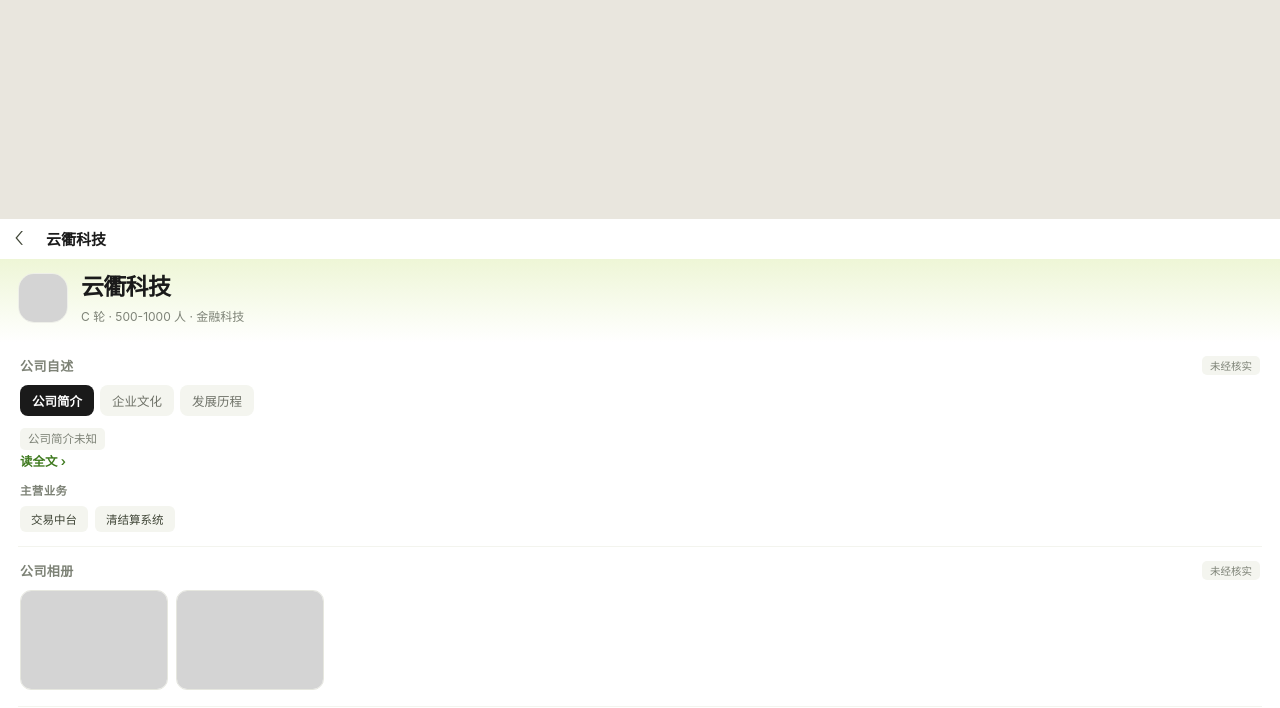
Test: 企业公开页展示 · 主屏与公司自述 › 三 Tab 只换自述正文，缺失的 Tab 显示对应未知
(page scrolled)
Expected: the text "公司简介未知" is shown, [20,428,105,450]
Step 1. Click the button "企业文化" → (137, 400), box [100,385,174,416]
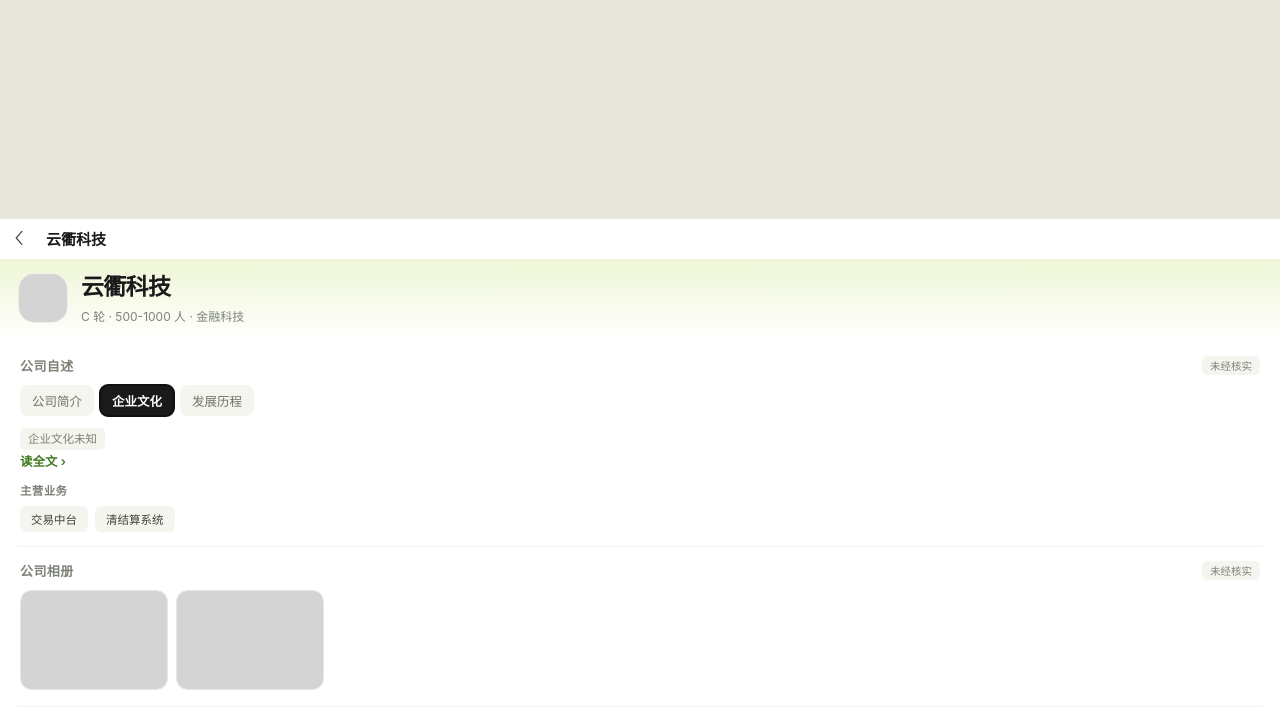
Result: the text "企业文化未知" is shown at [20,428,105,450]
Step 2. Click the button "发展历程" → (217, 400), box [180,385,254,416]
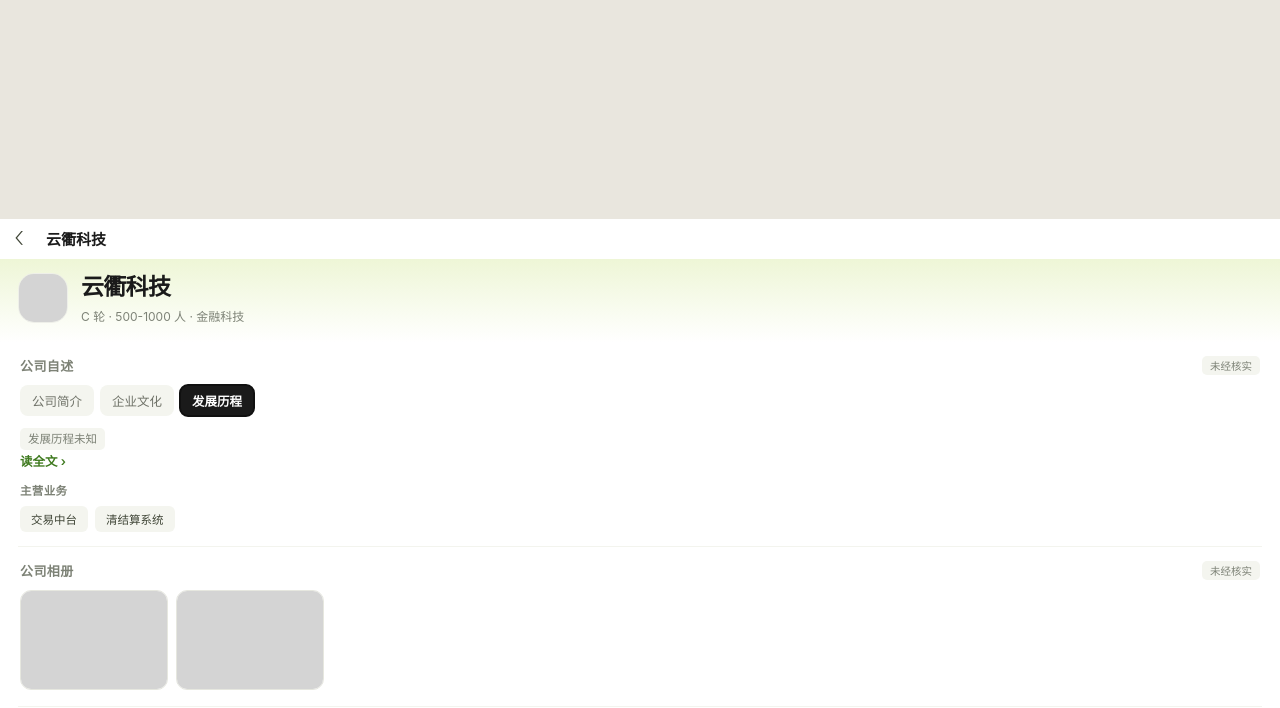
Result: the text "发展历程未知" is shown at [20,428,105,450]
Step 3. Click the button "公司简介" → (57, 400), box [20,385,94,416]
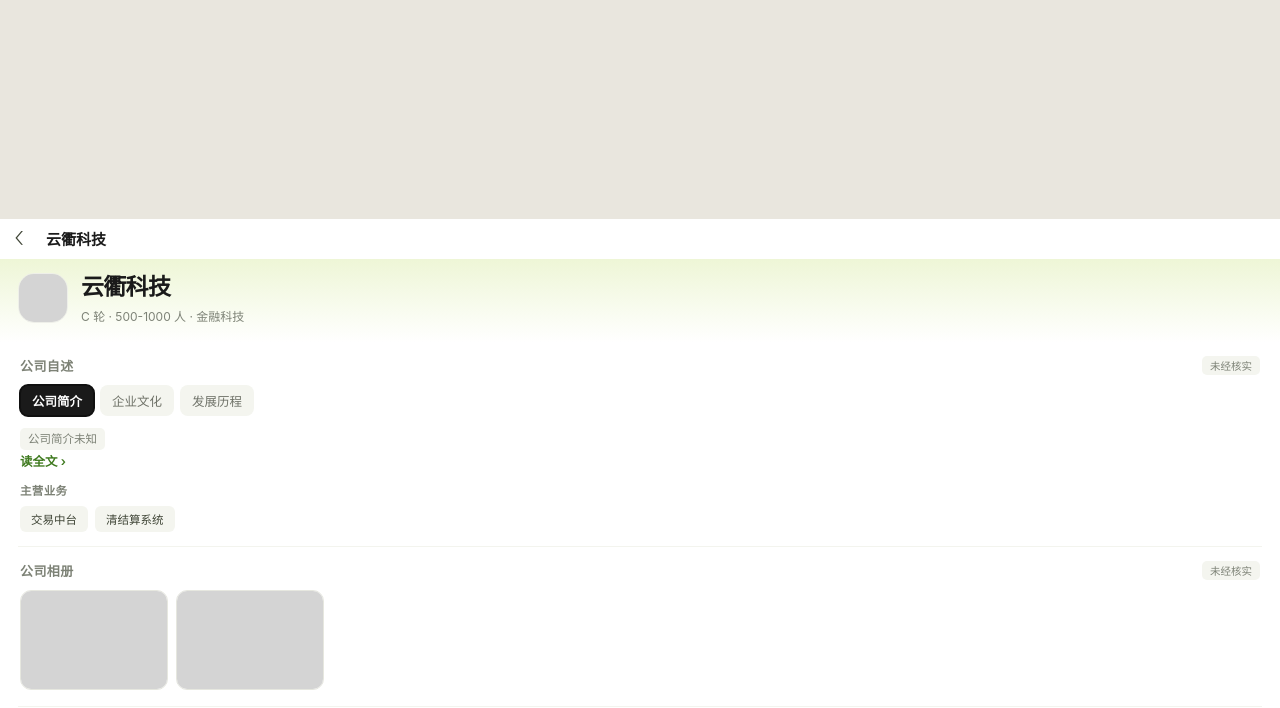
Result: the text "公司简介未知" is shown at [20,428,105,450]
